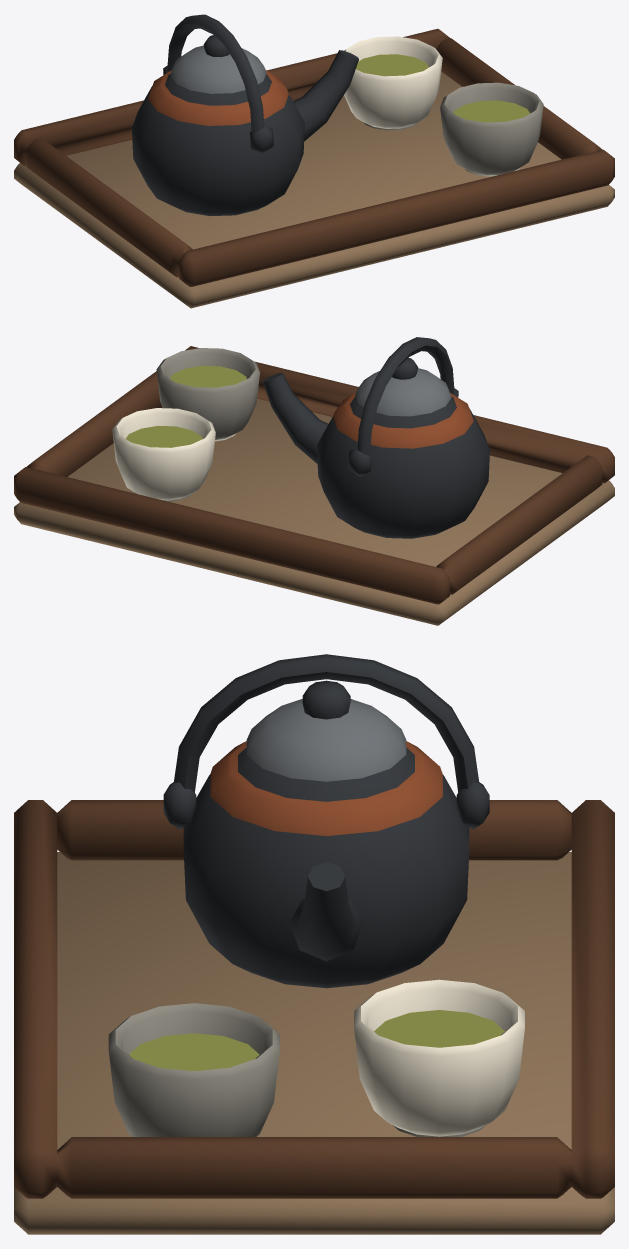
File: tea_set.glb
3 views of the same model, one above another, from view 1: azimuth 30°, elevation 25°; view 2: azimuth 150°, elevation 25°; view 3: azimuth 270°, elevation 25° (orthographic). The views are drawn at different scales.
Visible parts, largest first — view 1: tray, teaware; view 2: tray, teaware; view 3: tray, teaware.
Part boxes in pixels (x1,y1,x2,y2): tray: [14, 28, 614, 308]; teaware: [132, 14, 543, 216]; tray: [14, 346, 614, 625]; teaware: [112, 337, 489, 538]; tray: [14, 800, 614, 1234]; teaware: [108, 654, 524, 1136].
Size of the model in its own units: 0.35 by 0.1505 by 0.25.
